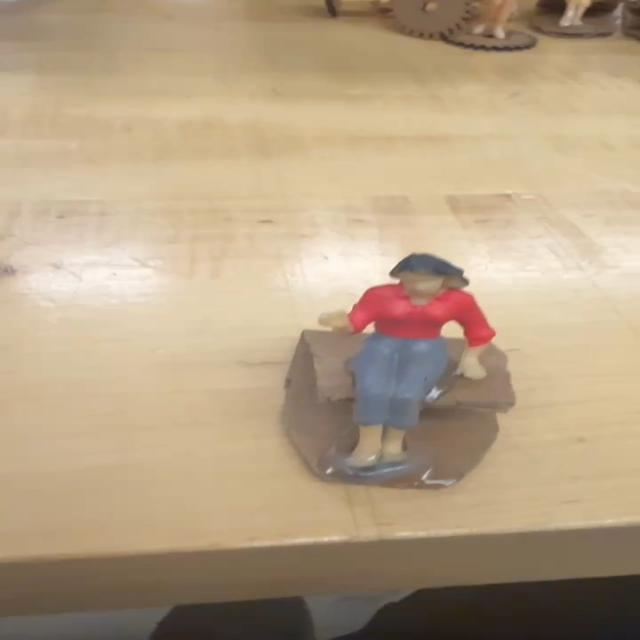Authorized: (224, 235, 573, 530)
